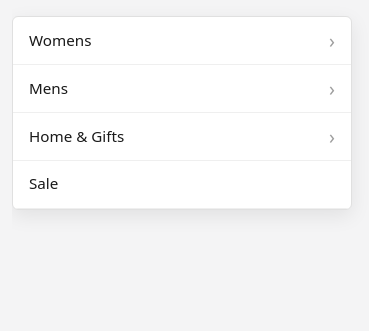
Test: NavRenderer drawer › drills into a category and shows its sections and links, then navigates back
The width and height of the screenshot is (369, 331).
# Root shows Womens as a drill target.
Click the button "Womens ›": (60, 40) [13,17,351,64]
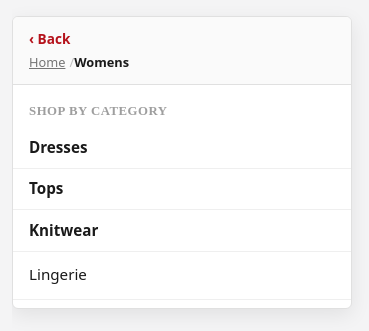
Expected: the button "Home" is shown, [29,54,65,72]
Expected: the heading "Shop by Category" is shown, [29,104,168,118]
Click the button "‹ Back": (50, 38) [29,29,70,48]
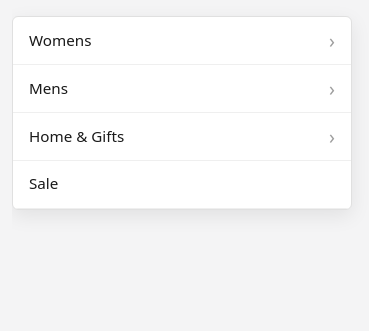
Expected: the button "Womens ›" is shown, [13,17,351,64]
